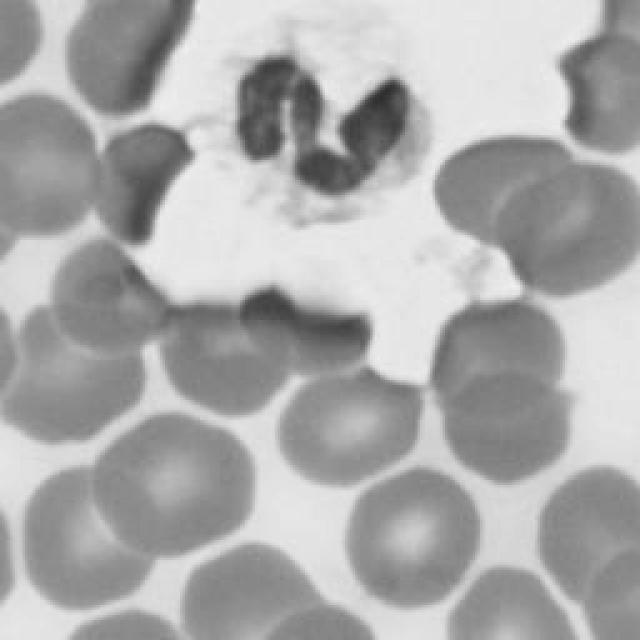RBC: (101, 415, 256, 557), (0, 312, 148, 446), (23, 465, 158, 610), (352, 472, 486, 610), (500, 168, 640, 292), (279, 369, 421, 486), (431, 300, 564, 418), (435, 133, 575, 245), (164, 296, 291, 419), (446, 372, 576, 486), (67, 0, 195, 115), (184, 545, 338, 640), (0, 95, 95, 235), (541, 471, 639, 601), (54, 245, 168, 355), (94, 125, 188, 243), (255, 275, 370, 370), (560, 42, 640, 158), (445, 570, 577, 640), (585, 552, 640, 640), (262, 607, 375, 640), (0, 3, 45, 85), (72, 612, 182, 640)
WBC: (196, 31, 436, 231)
